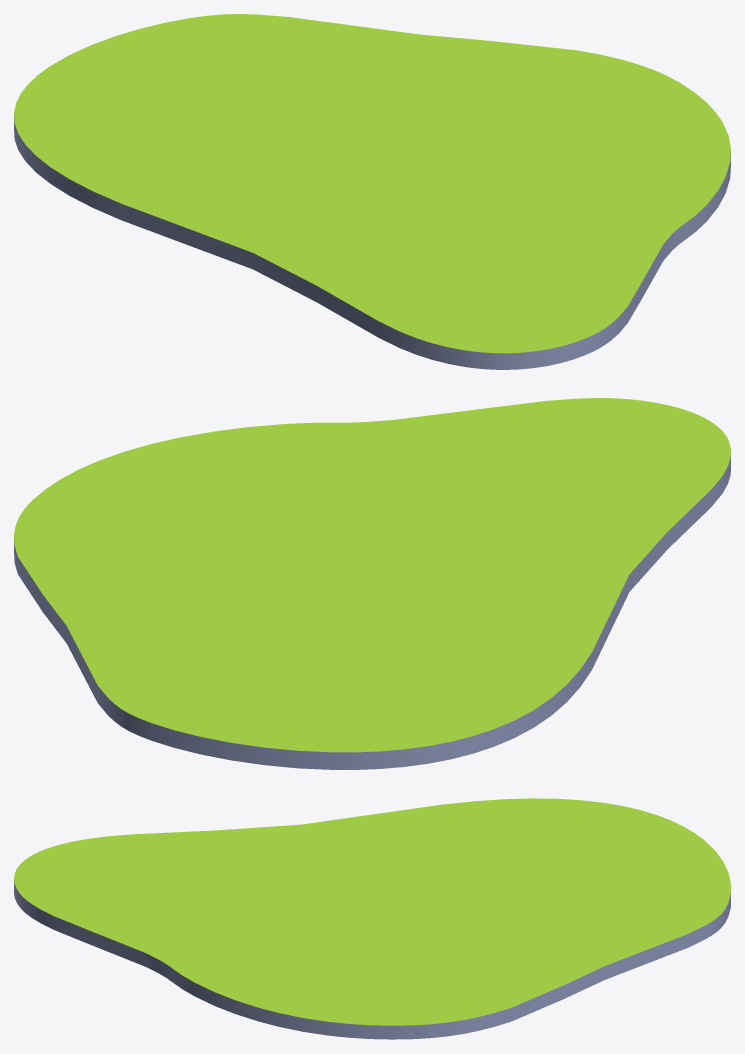
File: Lastholes12.fbx
3 renders of one model, top to bottom at view 1: azimuth 30°, elevation 25°; view 2: azimuth 150°, elevation 25°; view 3: azimuth 270°, elevation 25°, orthographic. The views are drawn at different scales.
Visible parts, largest first — view 1: mainRes_2; view 2: mainRes_2; view 3: mainRes_2.
Part boxes in pixels (<box>): mainRes_2: <box>14,14,730,369</box>; mainRes_2: <box>14,398,730,769</box>; mainRes_2: <box>14,798,730,1039</box>.
Size of the model in its own units: 1058 by 30 by 1411.
